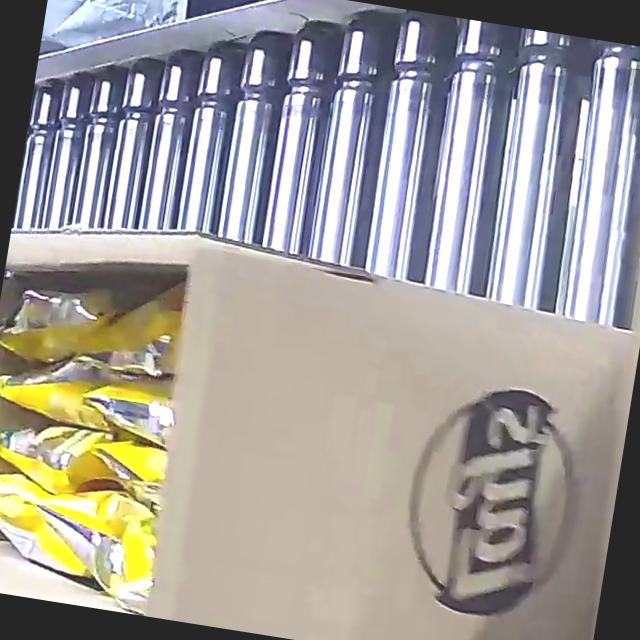salted: (0, 276, 194, 600)
